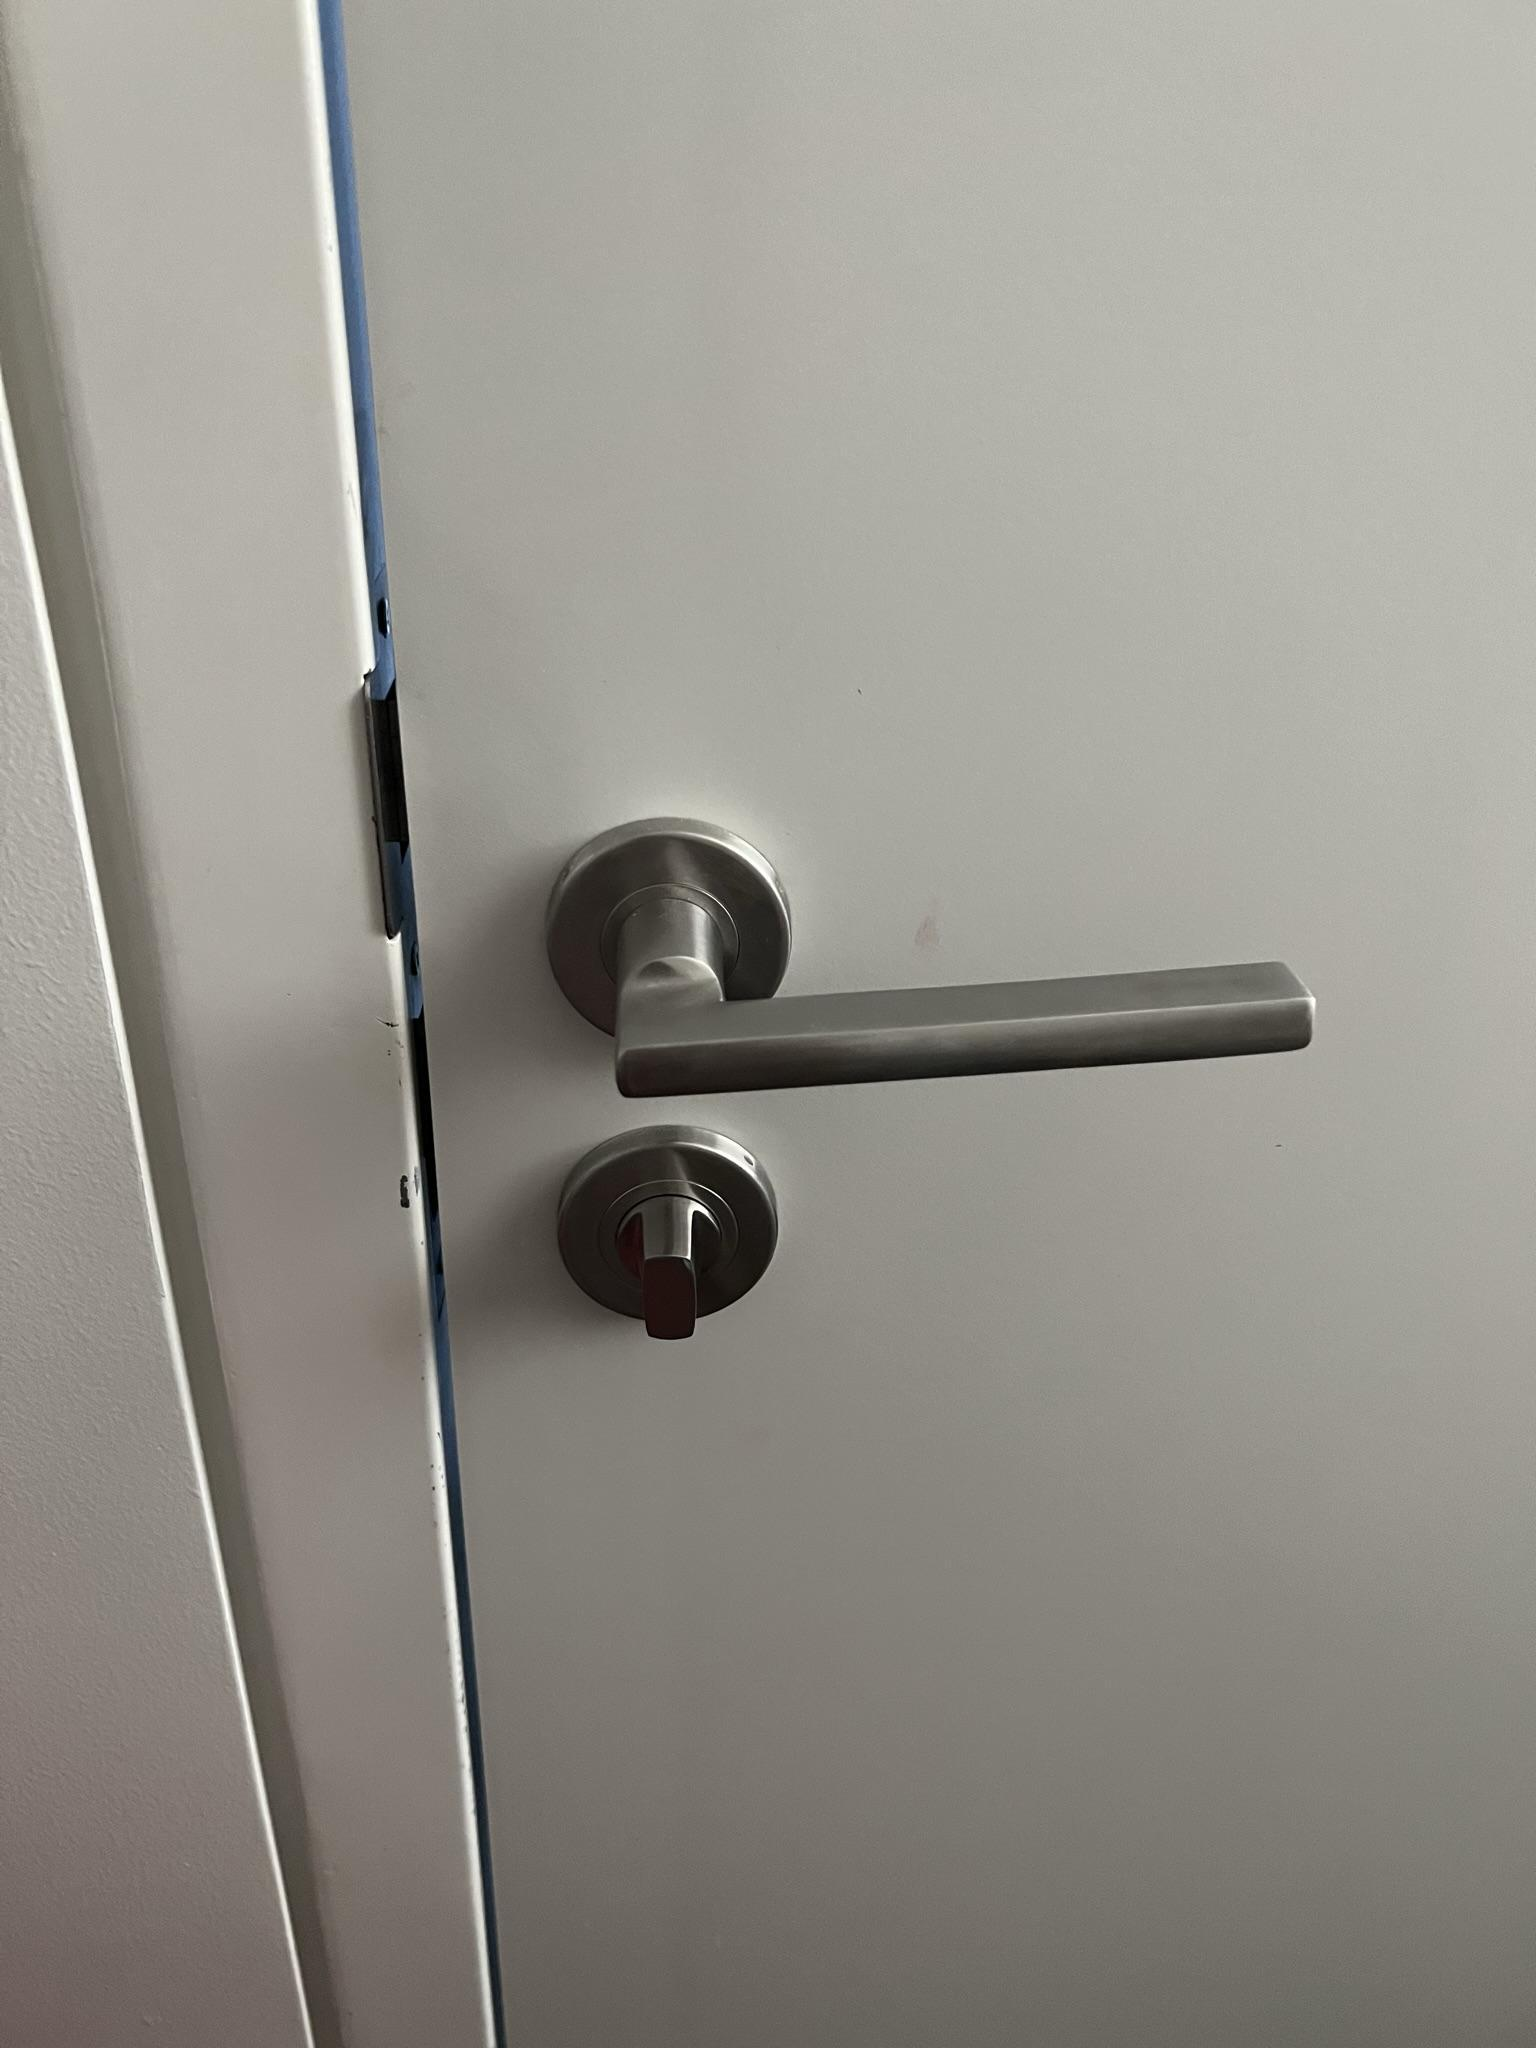handle: (511, 801, 1333, 1350)
